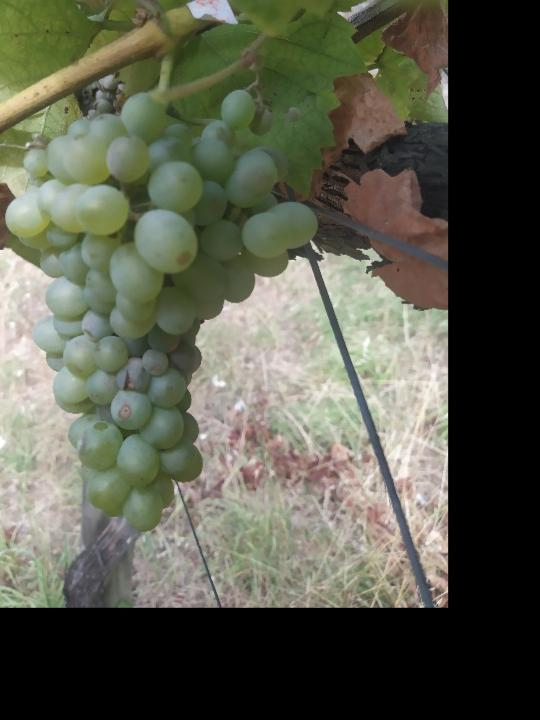grape: (2, 85, 320, 534)
